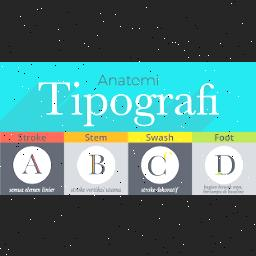a: (21, 151, 47, 181), (98, 72, 110, 88)
b: (86, 150, 108, 180)
c: (148, 154, 170, 180)
d: (212, 151, 240, 181)
o: (110, 90, 134, 118)
p: (82, 90, 108, 128)
t: (34, 74, 72, 120)
